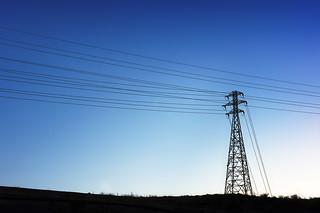power_tower: (218, 88, 255, 196)
